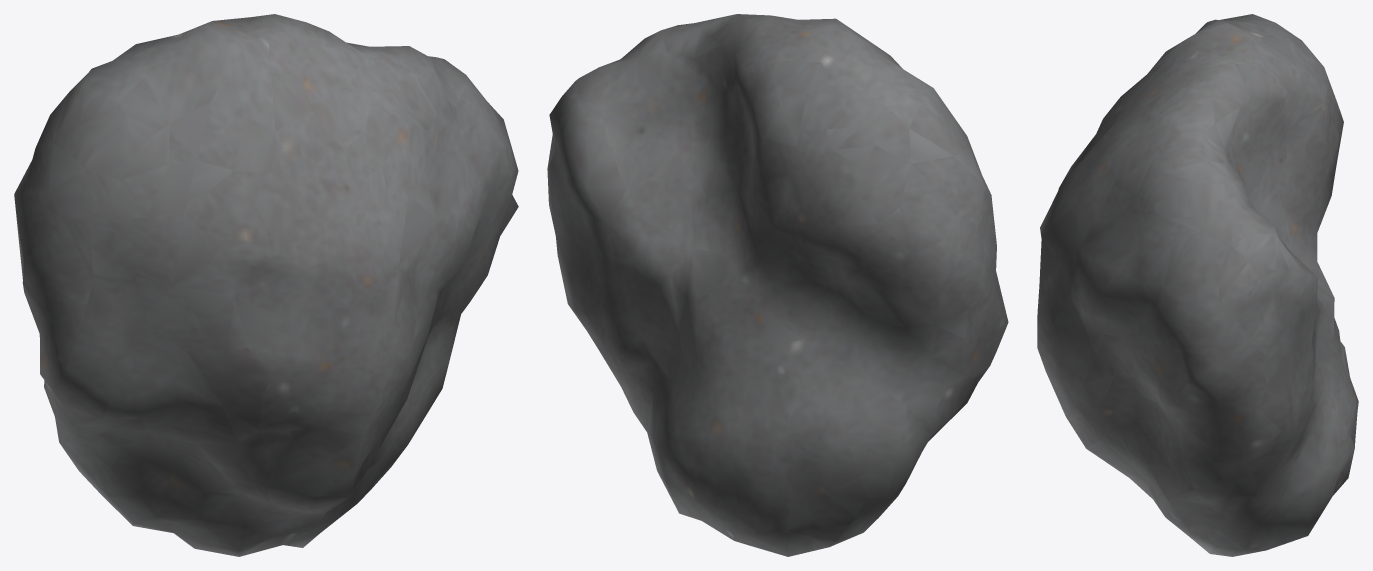
File: rock-8.obj
3 renders of one model, left to right at view 1: azimuth 30°, elevation 25°; view 2: azimuth 150°, elevation 25°; view 3: azimuth 270°, elevation 25°, orthographic. The views are drawn at different scales.
Bounding box in the file's own units: 0.5144 × 0.5681 × 0.3344.
Materials: 1 (1 with a texture image).
